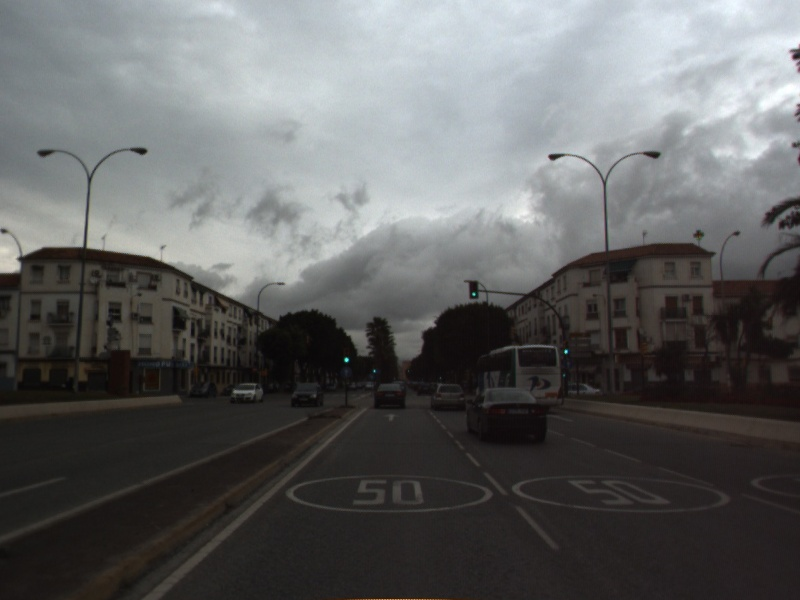STRAIGHT: (545, 411, 575, 424), (382, 411, 402, 423)
